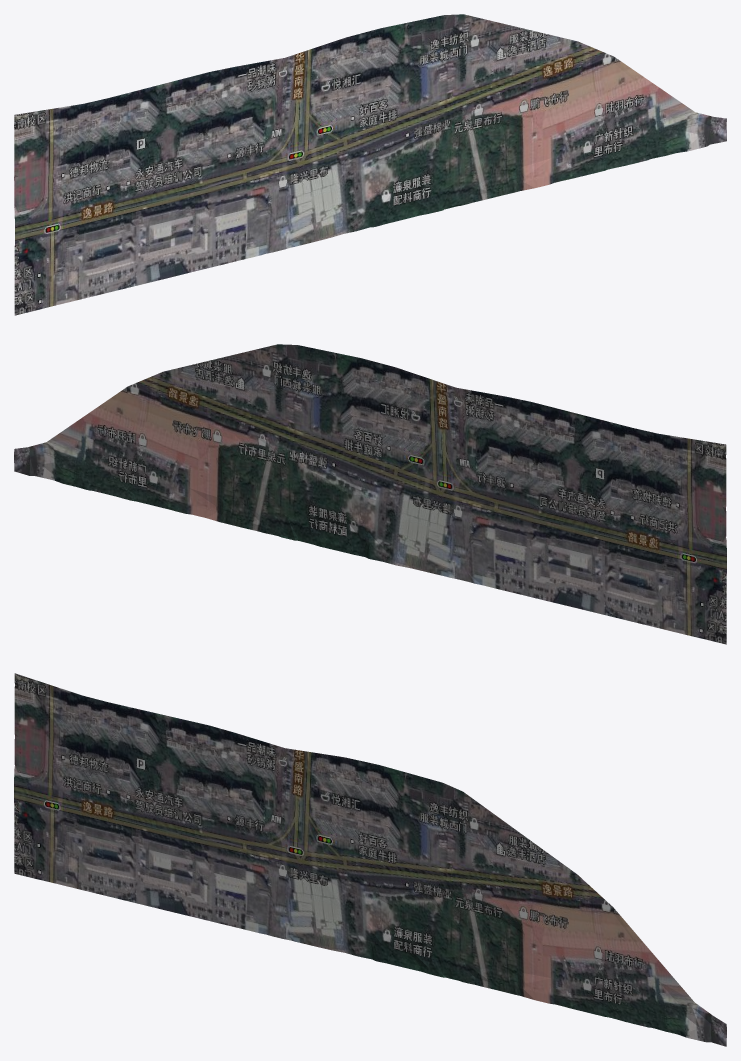
3 views of the same model, one above another, from view 1: azimuth 30°, elevation 25°; view 2: azimuth 150°, elevation 25°; view 3: azimuth 330°, elevation 25° (orthographic).
Parts seen in each view (by area): view 1: 0_2_0_3_2; view 2: 0_2_0_3_2; view 3: 0_2_0_3_2.
Part boxes in pixels (left/top/right/bottom): 0_2_0_3_2: left=14, top=14, right=726, bottom=315; 0_2_0_3_2: left=14, top=344, right=726, bottom=644; 0_2_0_3_2: left=14, top=673, right=726, bottom=1046.
Bounding box in the file's own units: 972 × 261 × 4.54.
1 material, 1 textured.
